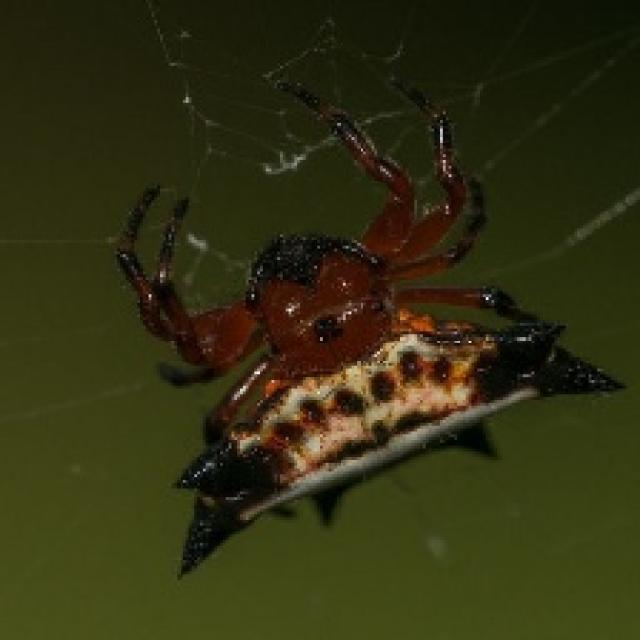Non venomous spider: (65, 88, 628, 586)
